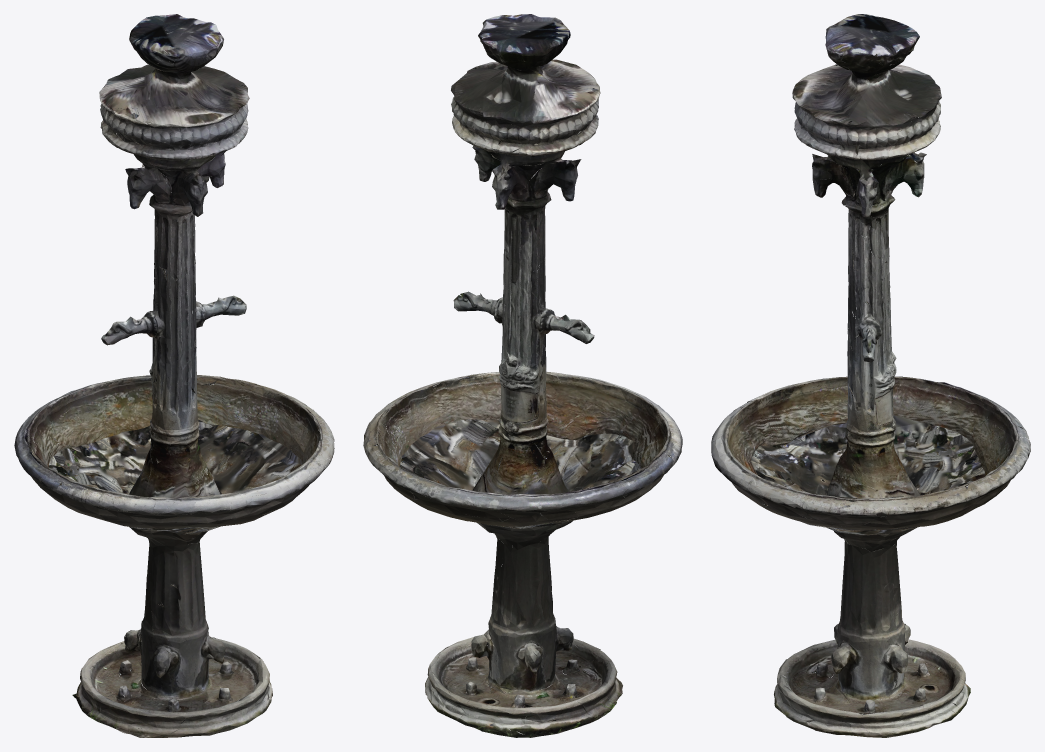
File: pitko5.glb
The picture shows the model from 3 angles, left to right: view 1: azimuth 30°, elevation 25°; view 2: azimuth 150°, elevation 25°; view 3: azimuth 270°, elevation 25°; orthographic projection.
Parts seen in each view (by area): view 1: submeshModifPITKO.001; view 2: submeshModifPITKO.001; view 3: submeshModifPITKO.001.
Part boxes in pixels (x1,y1,x2,y2): submeshModifPITKO.001: (14, 14, 334, 737); submeshModifPITKO.001: (363, 14, 682, 737); submeshModifPITKO.001: (711, 14, 1030, 737).
Bounding box in the file's own units: 1.33 × 3.11 × 1.33.
Materials: 1 (1 with a texture image).
